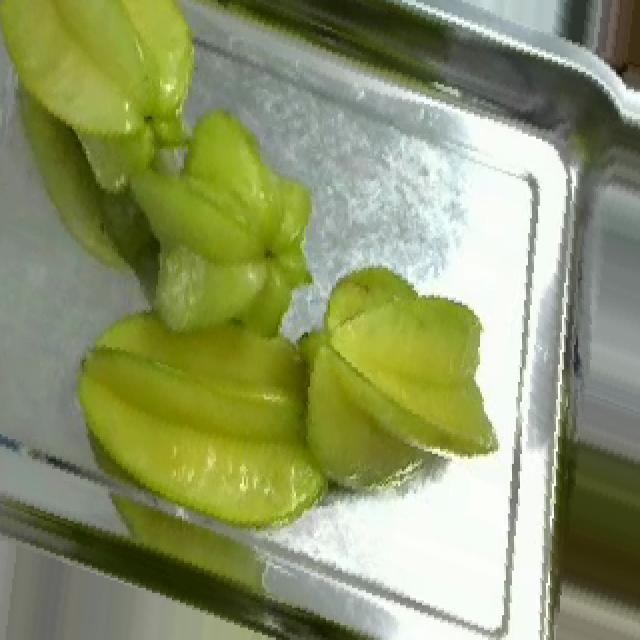fruit: (28, 216, 372, 563), (298, 241, 518, 526), (0, 0, 242, 246)
